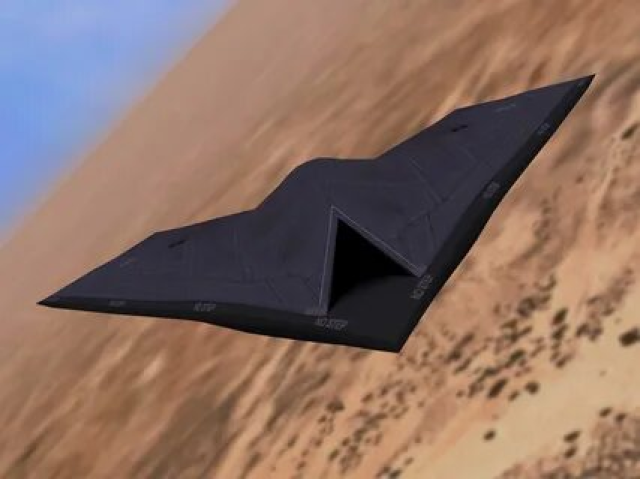military drone: (35, 72, 595, 352)
